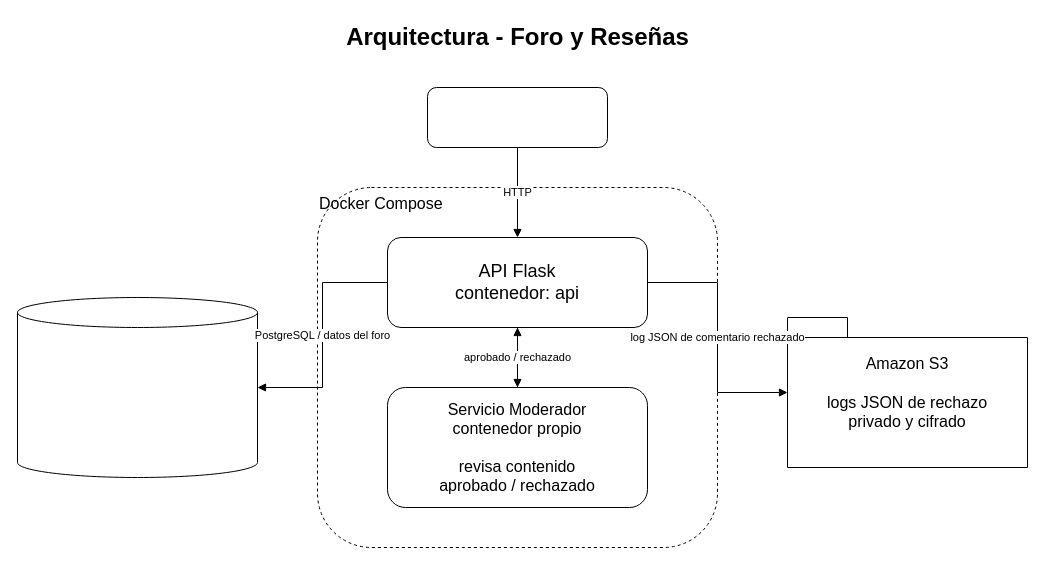
Some shapes in this 1045 by 565 pixel diagram are drawn without their labels. Here are the shapes that lost their labels. From the top down, the centre of each, then its label:
At [517,117]: "USUARIO".
At [137,387]: "RDS PostgreSQL usuarios hilos comentarios calificaciones".
